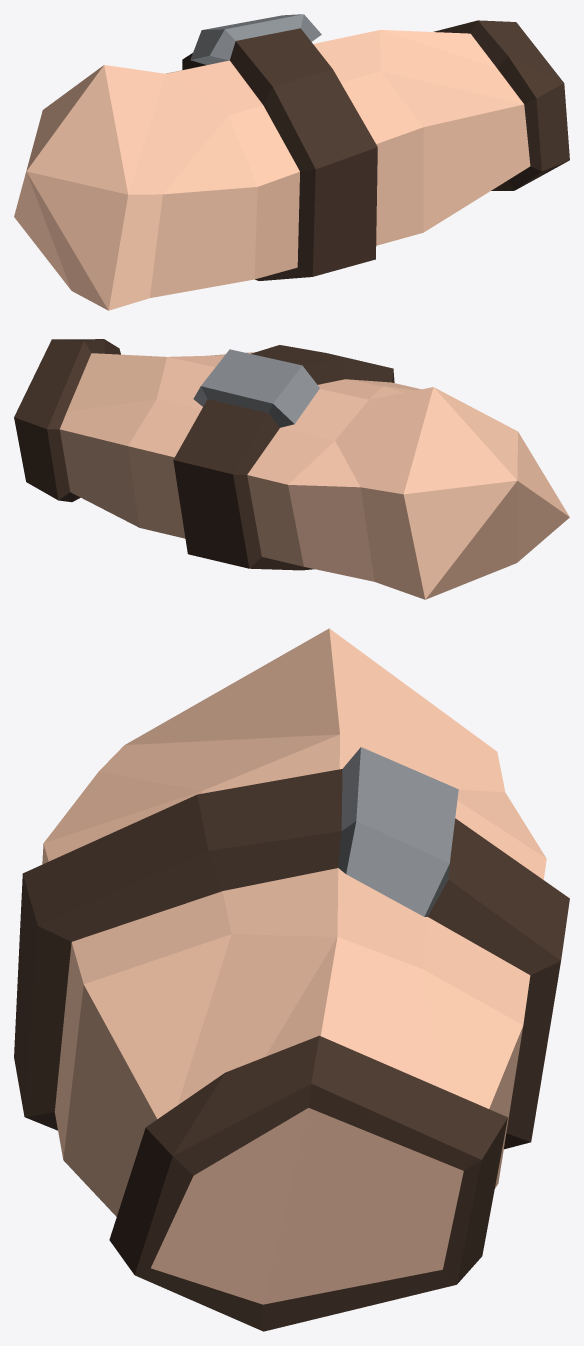
Rendered from Chr_ArmUpperLeft_Male_16_Static.fbx.
The picture shows the model from 3 angles, top to bottom: view 1: azimuth 30°, elevation 25°; view 2: azimuth 150°, elevation 25°; view 3: azimuth 270°, elevation 25°; orthographic projection. The views are drawn at different scales.
Parts seen in each view (by area): view 1: Chr_ArmUpperLeft_Male_16_Static; view 2: Chr_ArmUpperLeft_Male_16_Static; view 3: Chr_ArmUpperLeft_Male_16_Static.
Boxes of the visible parts, x1,y1,x2,y2 form: Chr_ArmUpperLeft_Male_16_Static: [14, 14, 569, 310]; Chr_ArmUpperLeft_Male_16_Static: [14, 339, 569, 599]; Chr_ArmUpperLeft_Male_16_Static: [14, 628, 569, 1331].
Bounding box in the file's own units: 0.3345 × 0.1456 × 0.1776.
